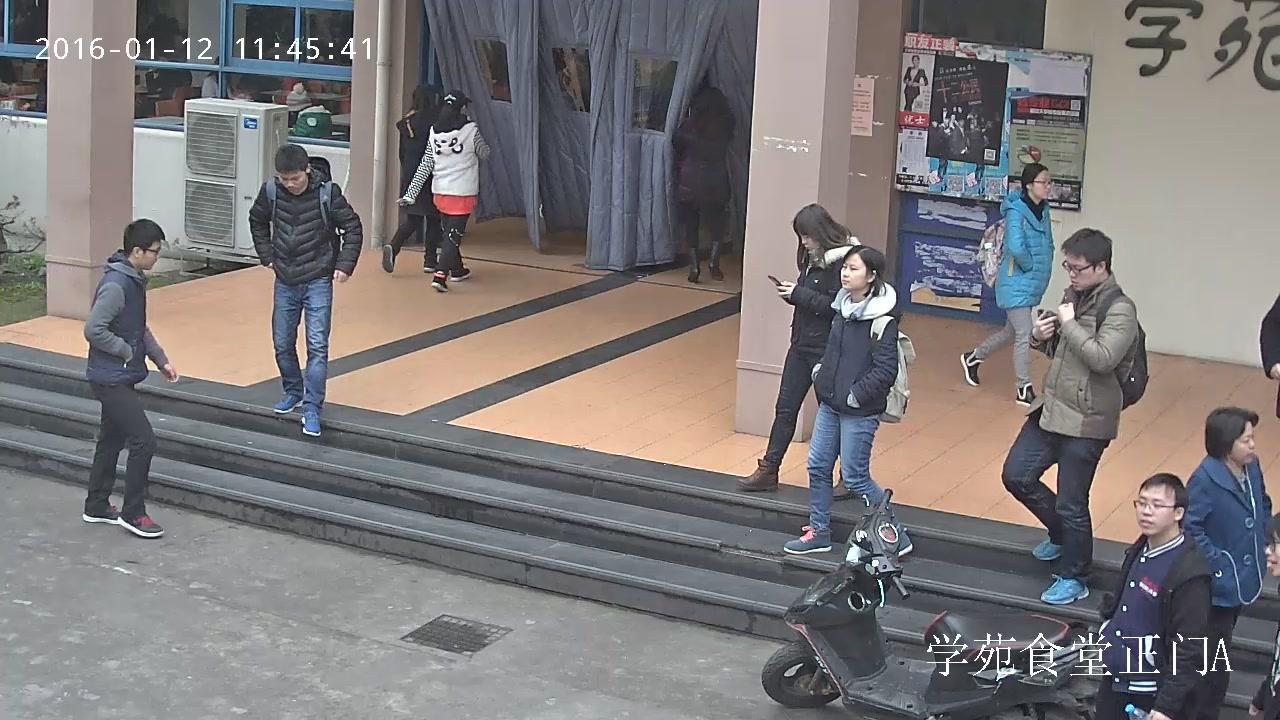person: (1001, 227, 1148, 606), (783, 244, 915, 563), (735, 201, 860, 493), (248, 144, 361, 436), (83, 219, 180, 538), (1095, 472, 1212, 720), (1183, 406, 1273, 720), (960, 161, 1055, 407), (394, 90, 492, 293), (671, 85, 737, 280), (382, 84, 437, 276), (1249, 511, 1280, 720), (1258, 288, 1280, 418), (284, 82, 331, 140), (903, 54, 928, 111)
